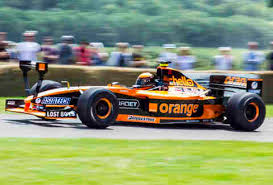FormulaOneCar: (3, 50, 268, 140)
